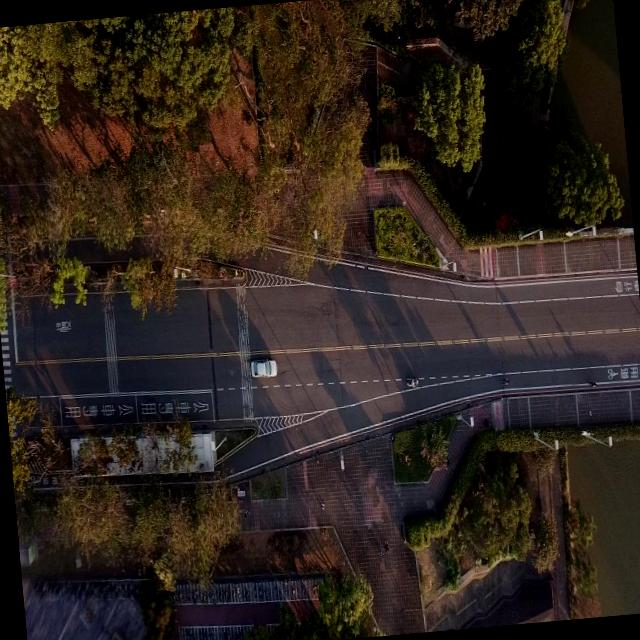bike: (494, 372, 516, 396), (586, 377, 602, 392), (405, 374, 419, 388)
car: (244, 350, 280, 388)
